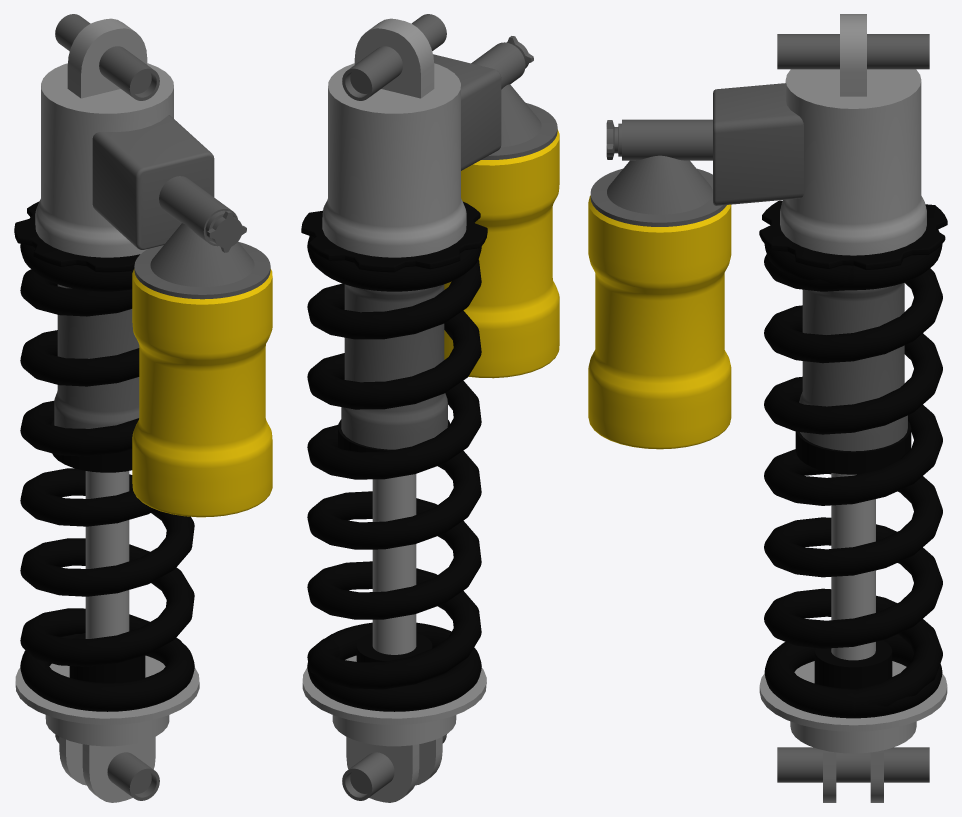
The model's file is ammortizzatore.glb.
3 views of the same model, side by side, from view 1: azimuth 30°, elevation 25°; view 2: azimuth 150°, elevation 25°; view 3: azimuth 270°, elevation 25° (orthographic).
Parts seen in each view (by area): view 1: ricambio; view 2: ricambio; view 3: ricambio.
Part boxes in pixels (bbox=[...]): ricambio: bbox=[14, 14, 272, 802]; ricambio: bbox=[301, 14, 559, 802]; ricambio: bbox=[588, 14, 947, 802].
Size of the model in its own units: 0.0744 by 0.34 by 0.142.
